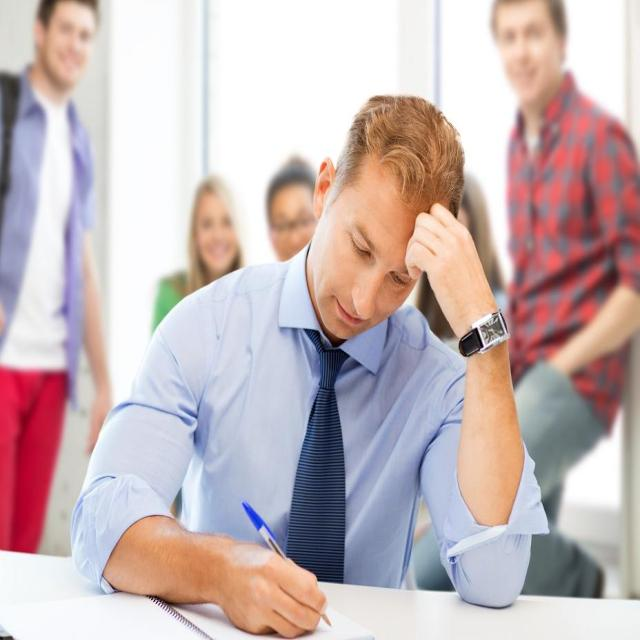adult: (70, 92, 552, 640), (487, 1, 640, 597), (0, 0, 118, 559), (138, 172, 252, 311)
